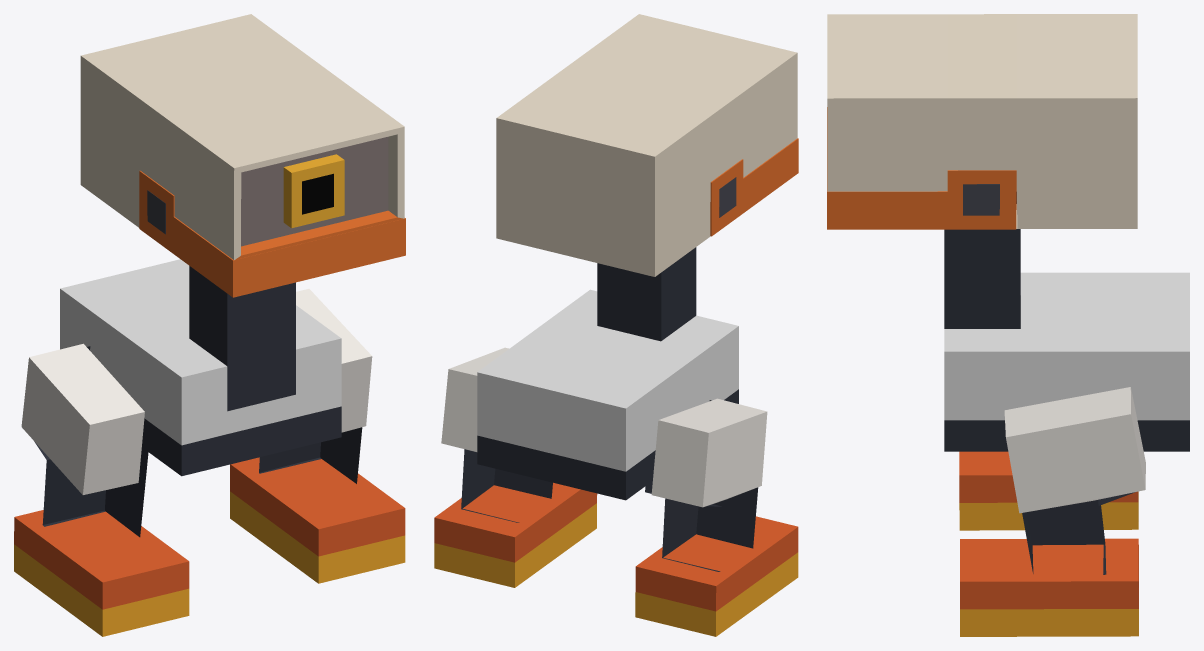
Rendered from microduck.glb.
3 views of the same model, side by side, from view 1: azimuth 30°, elevation 25°; view 2: azimuth 150°, elevation 25°; view 3: azimuth 270°, elevation 25° (orthographic). The views are drawn at different scales.
Parts seen in each view (by area): view 1: head, body, Cube.008, Cube.005, Plane.003, mouth, neck, legs2, Plane.005, legs1; view 2: head, body, Cube.008, Cube.005, Plane.003, neck, legs2, mouth, Plane.005, legs1; view 3: head, body, Cube.005, Plane.005, mouth, neck, Cube.008, legs1.
Part boxes in pixels (box(x1,y1,x2,y2)): head: box(80, 14, 404, 259); body: box(60, 259, 341, 476); Cube.008: box(14, 510, 189, 636); Cube.005: box(230, 457, 405, 583); Plane.003: box(21, 343, 144, 494); mouth: box(139, 170, 405, 297); neck: box(189, 266, 295, 411); legs2: box(34, 346, 148, 537); Plane.005: box(296, 289, 372, 432); legs1: box(259, 427, 362, 483); head: box(496, 14, 797, 276); body: box(477, 289, 738, 500); Cube.008: box(635, 516, 798, 636); Cube.005: box(434, 482, 597, 587); Plane.003: box(651, 398, 767, 507); neck: box(597, 247, 696, 341); legs2: box(645, 400, 758, 571); mouth: box(710, 138, 798, 236); Plane.005: box(441, 347, 508, 451); legs1: box(461, 449, 552, 522); head: box(827, 14, 1137, 228); body: box(944, 272, 1189, 451); Cube.005: box(960, 538, 1138, 636); Plane.005: box(1004, 387, 1145, 513); mouth: box(827, 107, 1016, 229); neck: box(944, 192, 1020, 328); Cube.008: box(959, 451, 1138, 530); legs1: box(1022, 492, 1134, 574).
Bounding box in the file's own units: 2.88 × 4.55 × 2.95.
